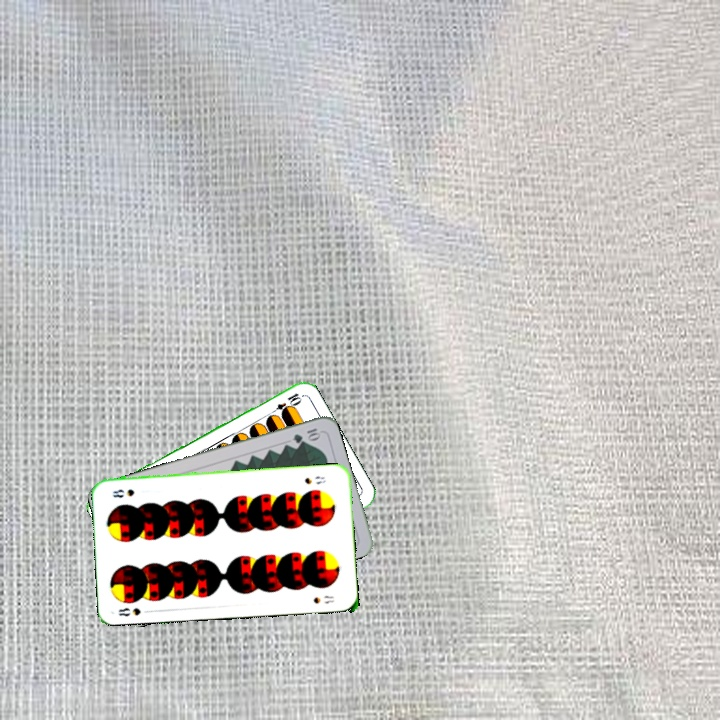E10: (266, 389, 304, 418)
G10: (289, 424, 323, 446)
S8: (115, 603, 143, 619), (301, 472, 328, 487)
